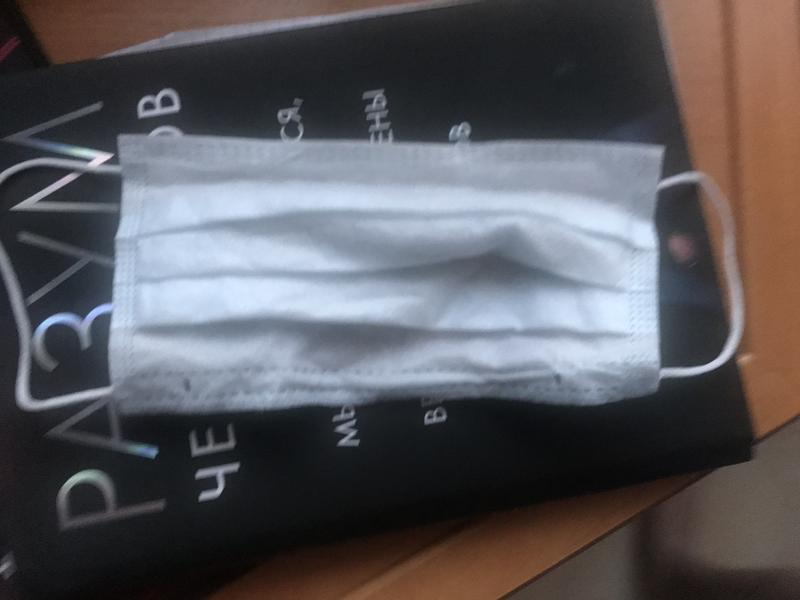medical_mask: (3, 134, 743, 409)
